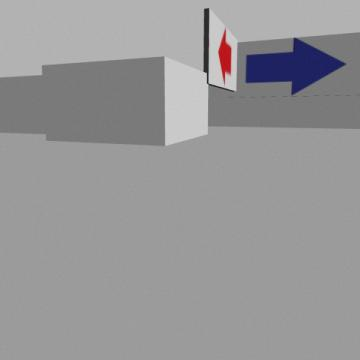blue_right: (246, 38, 345, 94)
red_left: (218, 28, 231, 84)
